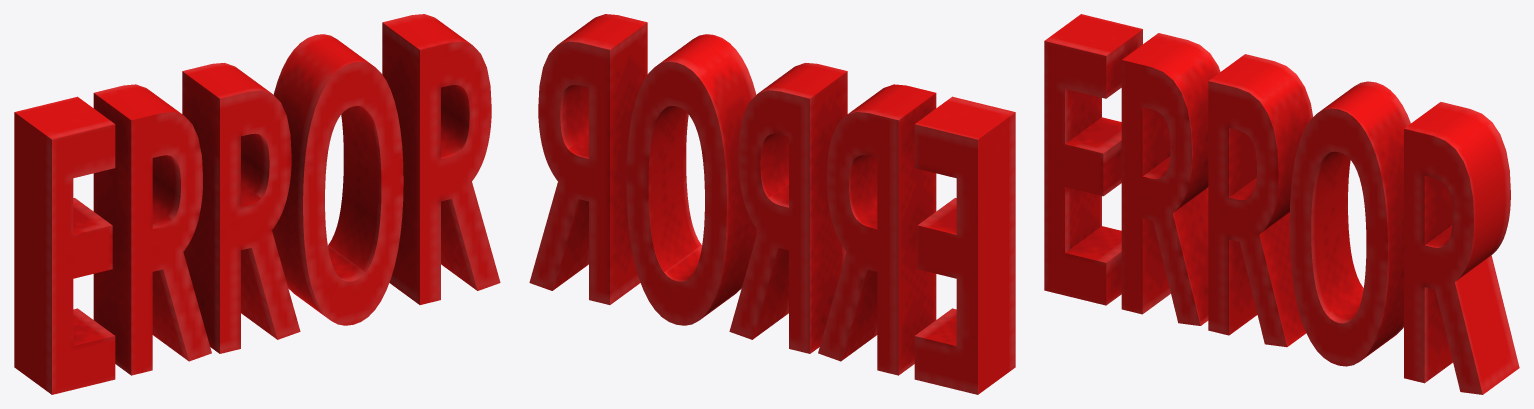
The model's file is forSketchfab_mdl_dev_error.fbx.
3 renders of one model, left to right at view 1: azimuth 30°, elevation 25°; view 2: azimuth 150°, elevation 25°; view 3: azimuth 330°, elevation 25°, orthographic. The views are drawn at different scales.
Parts seen in each view (by area): view 1: obj_0; view 2: obj_0; view 3: obj_0.
Part boxes in pixels (left/top/right/bottom): obj_0: left=14, top=14, right=500, bottom=394; obj_0: left=529, top=14, right=1015, bottom=394; obj_0: left=1044, top=14, right=1519, bottom=394.
Bounding box in the file's own units: 482 × 269 × 70.05.
Materials: 1 (1 with a texture image).
